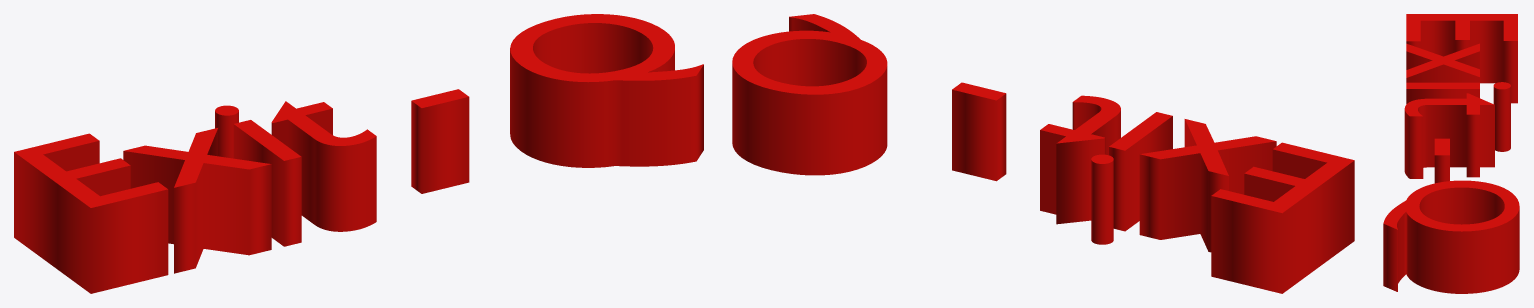
The model's file is exit.fbx.
3 renders of one model, left to right at view 1: azimuth 30°, elevation 25°; view 2: azimuth 150°, elevation 25°; view 3: azimuth 270°, elevation 25°, orthographic. The views are drawn at different scales.
Parts seen in each view (by area): view 1: Text; view 2: Text; view 3: Text.
Part boxes in pixels (x1,y1,x2,y2): Text: (14,14,703,293); Text: (732,14,1354,293); Text: (1383,14,1519,293).
Size of the model in its own units: 314 by 42 by 83.
